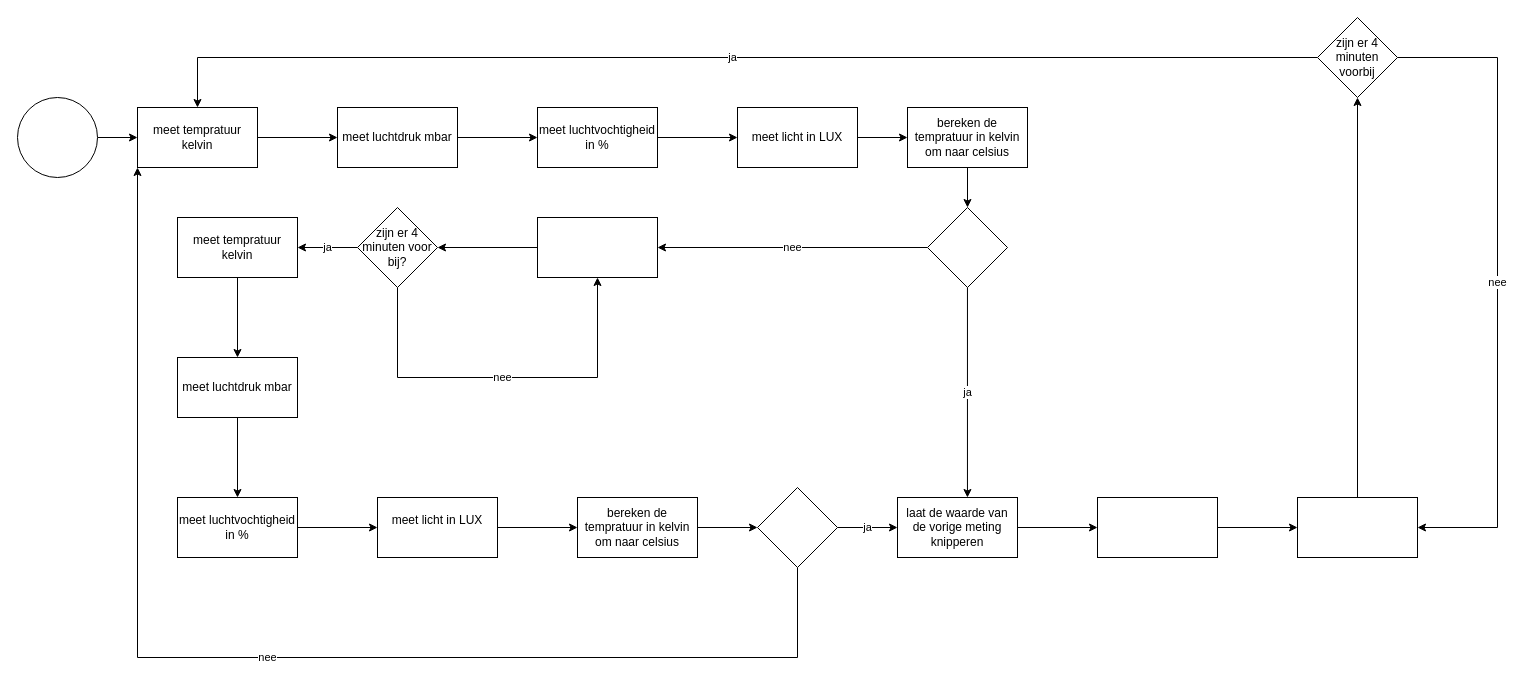
The diagram is 1524 pixels wide and 683 high, and some of its shapes have lost their labels. Here are the shapes that lost their labels. From the top down, the centre of each, then its label:
the point at 57,137: start
the point at 597,247: toon de gegevens op display
the point at 967,247: is er een nieuwe waarde?
the point at 797,527: zijn de gegevens verandert?
the point at 1157,527: wacht 4 sec
the point at 1357,527: toon nieuwe waarde
